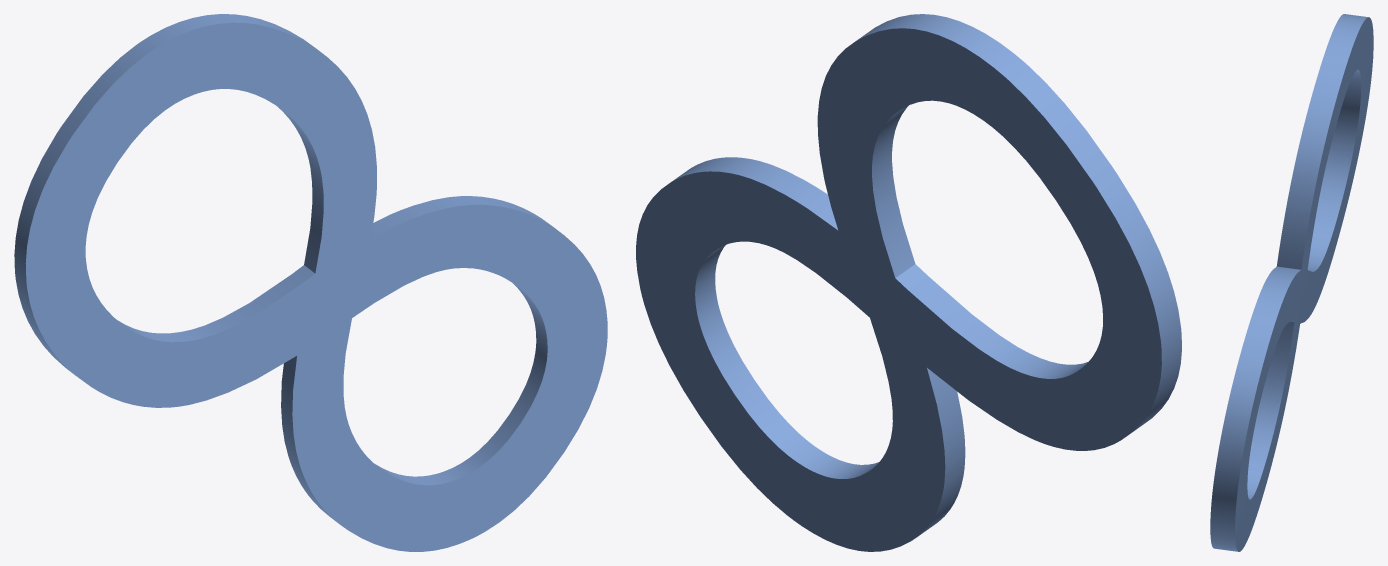
File: New_Number_8.gltf
3 views of the same model, side by side, from view 1: azimuth 30°, elevation 25°; view 2: azimuth 150°, elevation 25°; view 3: azimuth 270°, elevation 25° (orthographic). The views are drawn at different scales.
Parts seen in each view (by area): view 1: Part 161; view 2: Part 161; view 3: Part 161.
Part boxes in pixels (left/top/right/bottom): Part 161: left=14, top=14, right=607, bottom=551; Part 161: left=636, top=14, right=1181, bottom=551; Part 161: left=1210, top=14, right=1373, bottom=551.
Size of the model in its own units: 0.00529 by 0.00509 by 0.00167.
